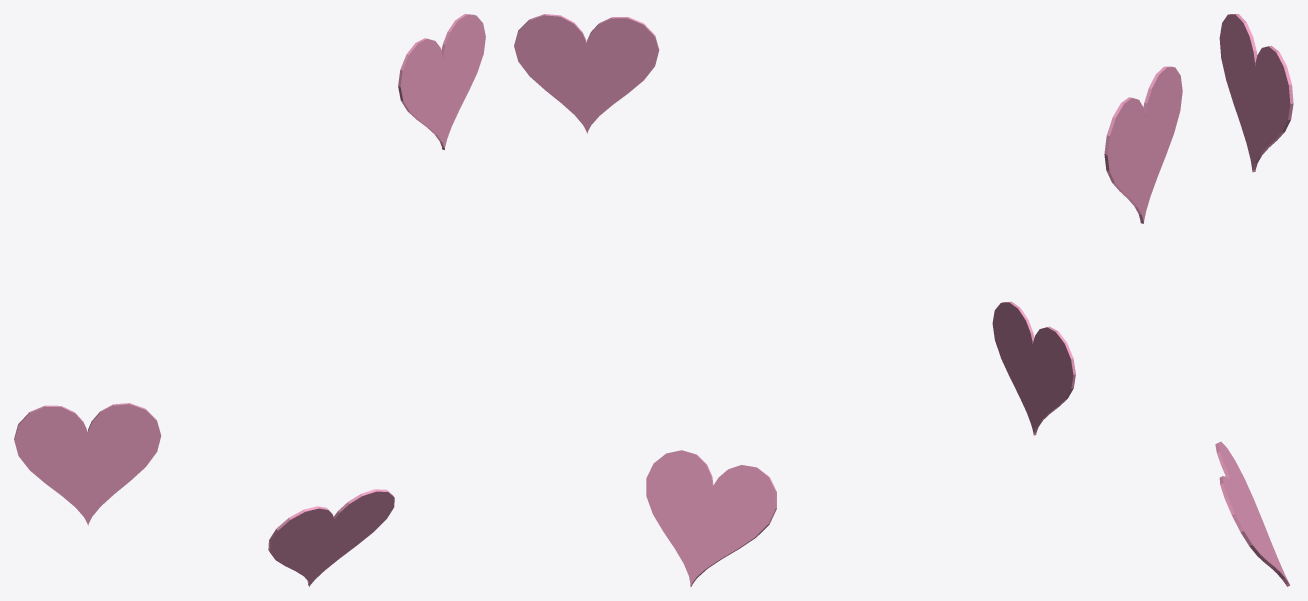
3 views of the same model, side by side, from view 1: azimuth 30°, elevation 25°; view 2: azimuth 150°, elevation 25°; view 3: azimuth 270°, elevation 25° (orthographic). The views are drawn at different scales.
Visible parts, largest first — view 1: 可隐藏爱心纸饰_3.001; view 2: 可隐藏爱心纸饰_3.001; view 3: 可隐藏爱心纸饰_3.001.
Boxes of the visible parts, x1,y1,x2,y2 form: 可隐藏爱心纸饰_3.001: [14, 14, 485, 586]; 可隐藏爱心纸饰_3.001: [514, 14, 1075, 586]; 可隐藏爱心纸饰_3.001: [1104, 14, 1293, 586].
Bounding box in the file's own units: 0.2894 × 0.2867 × 0.0792.
